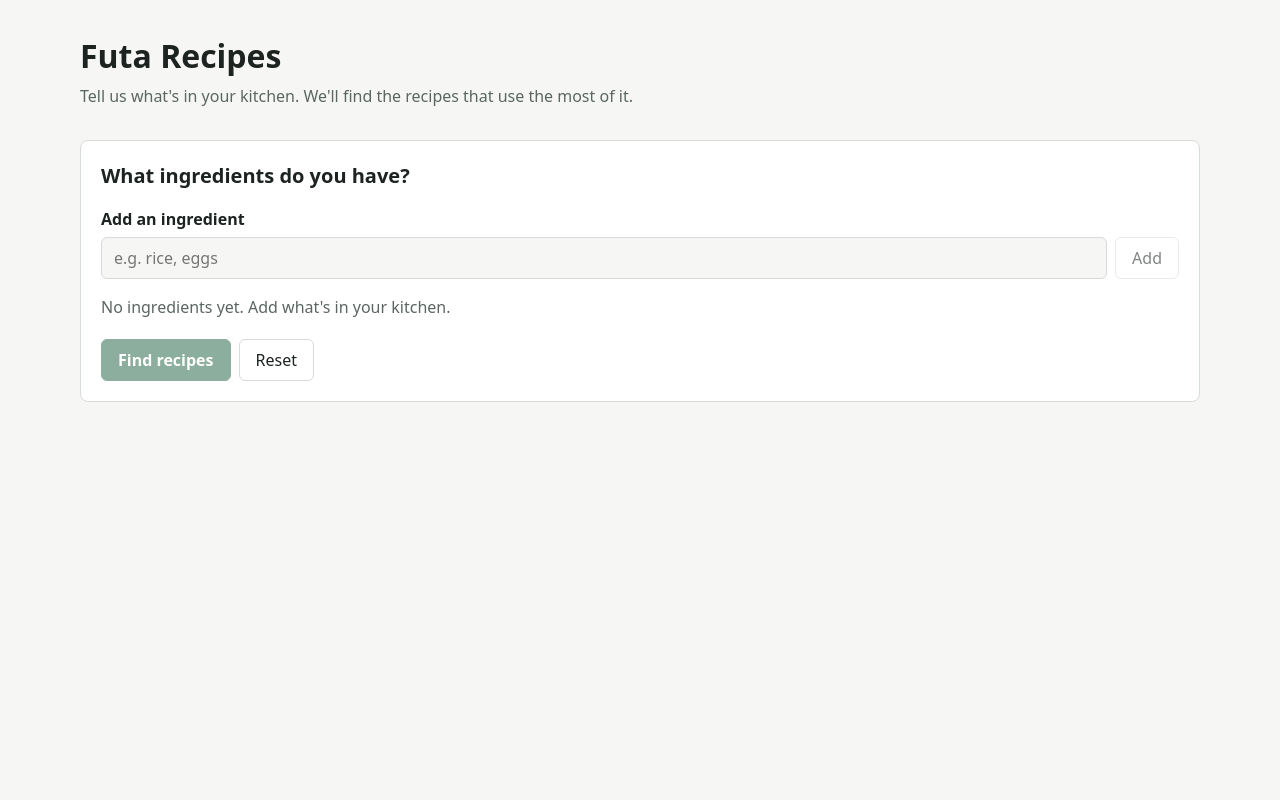
Test: affiche une erreur compréhensible et permet de réessayer
Type "rice" into the field labelled "Add an ingredient" at point(604, 258), box x1=101 y1=237 x2=1107 y2=279
Then press Enter
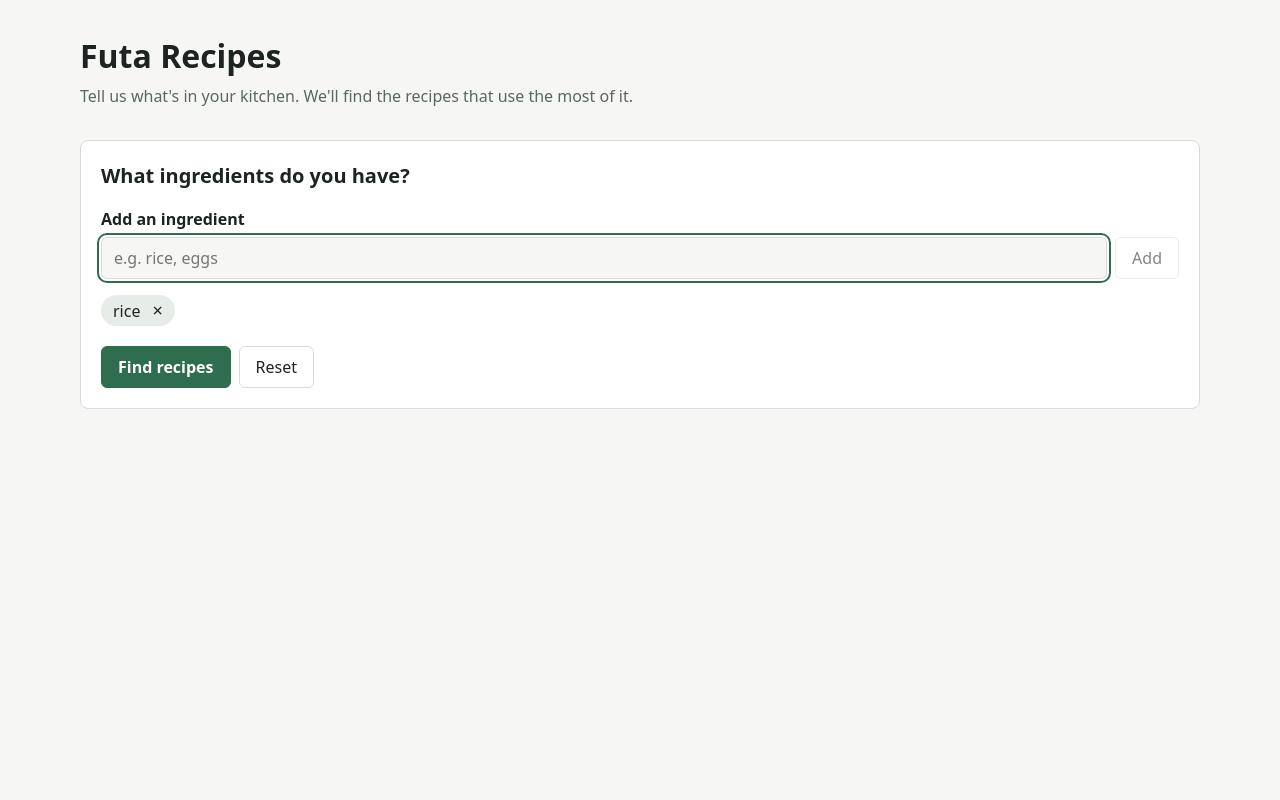
Click the button "Find recipes" at point(166, 367), box x1=101 y1=346 x2=230 y2=388
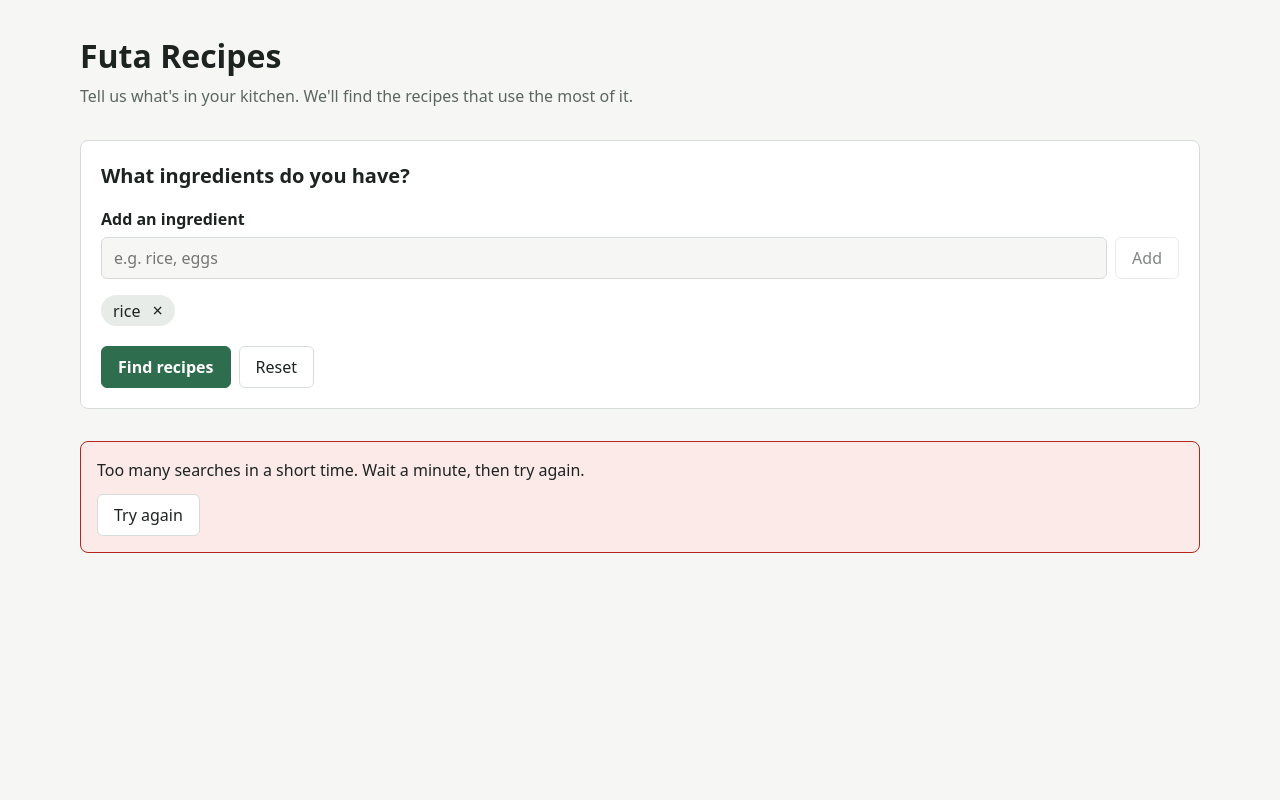
Expected: the message shows "Too many searches", x1=97 y1=459 x2=585 y2=481
Click the button "Try again" at point(148, 515), box x1=97 y1=494 x2=200 y2=536
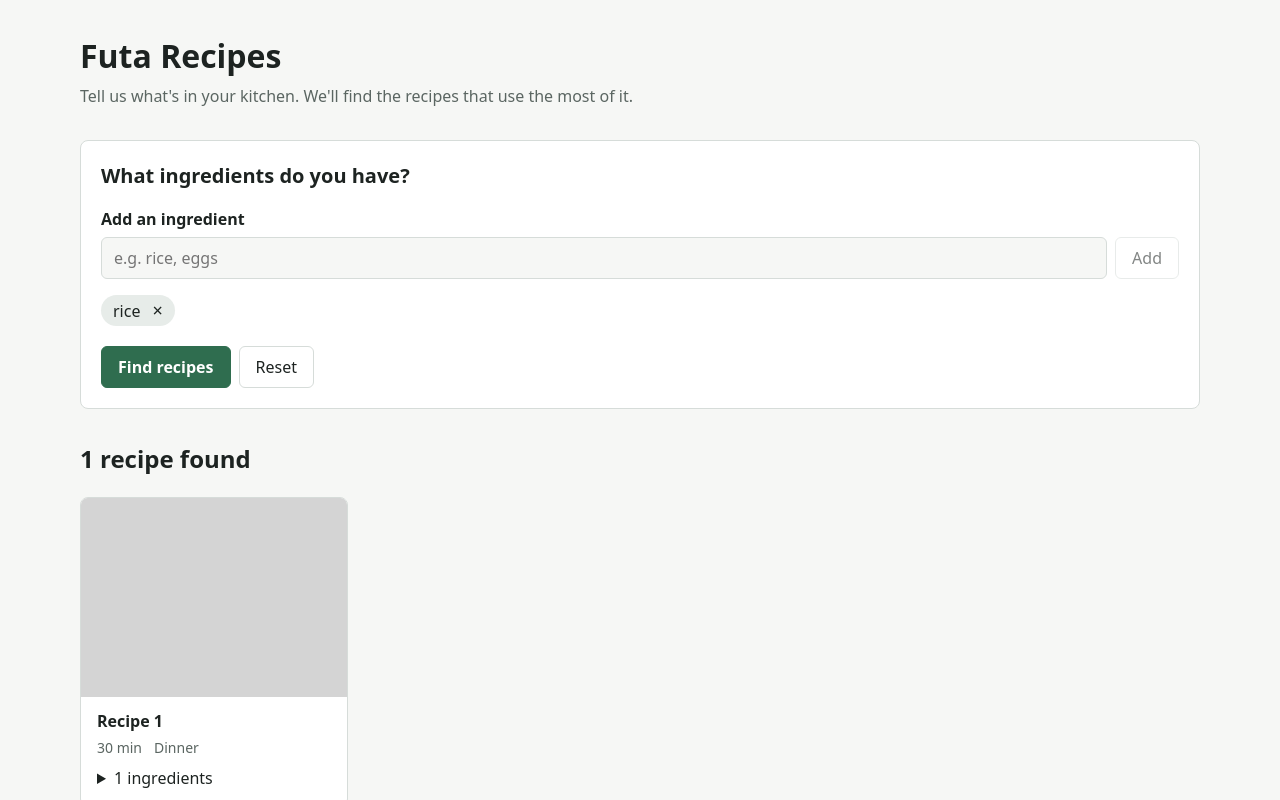
Expected: the heading "1 recipe found" is shown, x1=80 y1=442 x2=251 y2=475
